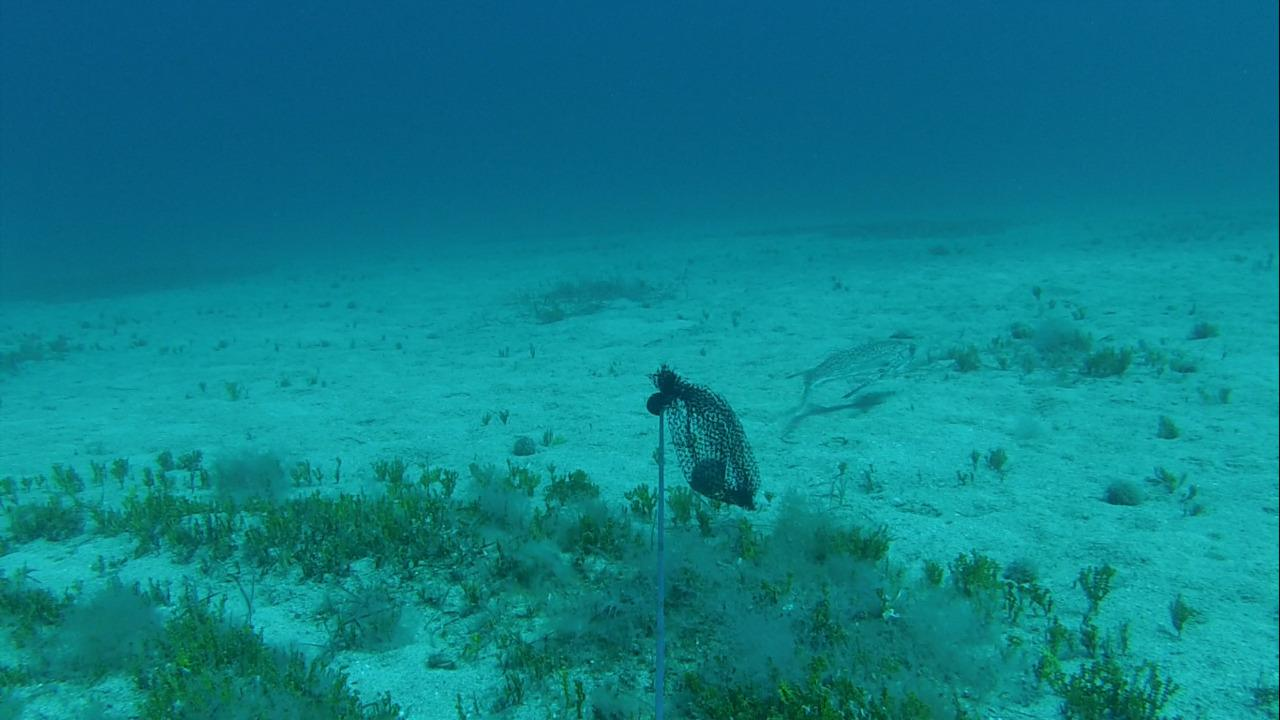dactylopterus: (792, 333, 925, 402)
